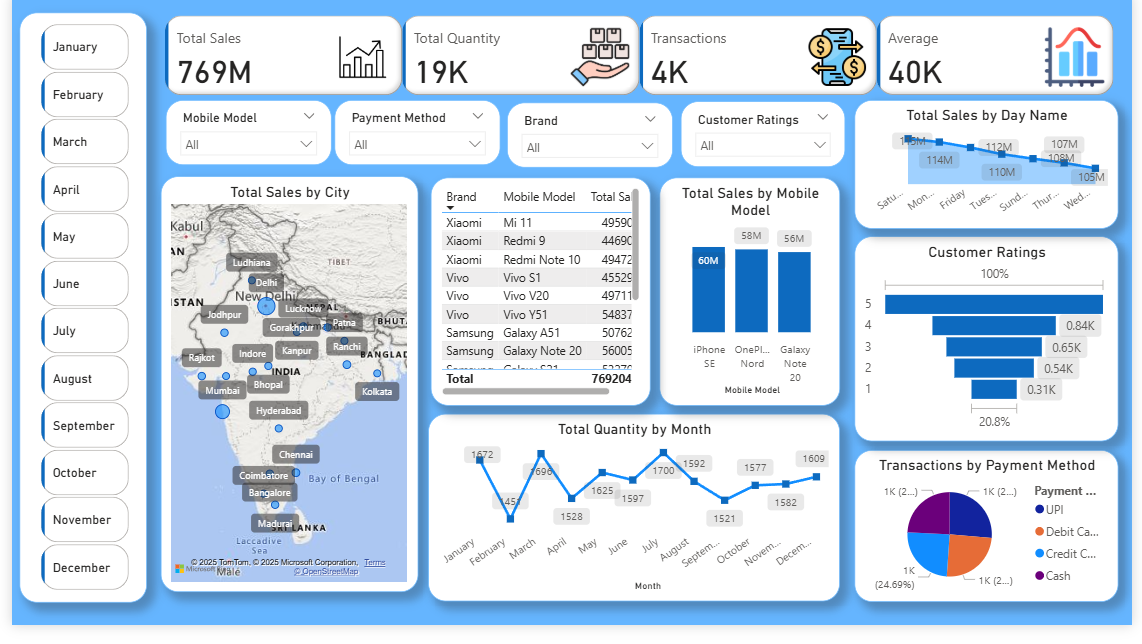

The dashboard page shown, as its layout file describes it:
{"tool":"powerbi","page":{"name":"Page 1","canvas":[1280,720],"ordinal":0},"visuals":[{"type":"shape","box":[8.4,19.3,146,674.4],"z":0},{"type":"advancedSlicerVisual","fields":{"Values":["Sales_Data.Date.Variation.Date Hierarchy.Month"]},"box":[28.8,28.8,110,666.2],"z":1000},{"type":"cardVisual","fields":{"Data":["Sales_Data.Total Sales","Sales_Data.Total Quantity","Sales_Data.Transactions","Sales_Data.Average"]},"box":[170.1,18.1,1094.2,101.3],"z":2000},{"type":"map","fields":{"Category":["Sales_Data.City"],"Size":["Sales_Data.Total Sales"]},"box":[170.1,207.5,294.4,475.3],"z":3000},{"type":"lineChart","fields":{"Category":["Sales_Data.Date.Variation.Date Hierarchy.Month","Sales_Data.Date.Variation.Date Hierarchy.Day"],"Y":["Sales_Data.Total Quantity"]},"box":[475.3,479,470.5,214.7],"z":4000},{"type":"clusteredColumnChart","fields":{"Category":["Sales_Data.Mobile Model"],"Y":["Sales_Data.Total Sales"]},"box":[739.8,208.1,206.7,260.8],"z":5000},{"type":"pieChart","fields":{"Y":["Sales_Data.Transactions"],"Category":["Sales_Data.Payment Method"]},"box":[962.7,520,301.6,173.7],"z":6000},{"type":"funnel","title":"Customer Ratings","fields":{"Category":["Sales_Data.Customer Ratings"],"Y":["CountNonNull(Sales_Data.Customer Ratings)"]},"box":[962.7,276.3,301.6,234],"z":7000},{"type":"areaChart","fields":{"Category":["Sales_Data.Day Name"],"Y":["Sales_Data.Total Sales"]},"box":[962.7,119.4,301.6,147.2],"z":8000},{"type":"tableEx","fields":{"Values":["Sales_Data.Brand","Sales_Data.Mobile Model","Sales_Data.Total Sales"]},"box":[478.9,208.1,250.9,260.8],"z":9000},{"type":"slicer","fields":{"Values":["Sales_Data.Mobile Model"]},"box":[175.3,119.7,189.6,74.1],"z":10000},{"type":"slicer","fields":{"Values":["Sales_Data.Payment Method"]},"box":[369.2,119.7,189.6,74.1],"z":11000},{"type":"slicer","fields":{"Values":["Sales_Data.Customer Ratings"]},"box":[764,121.2,188.2,75.5],"z":12000},{"type":"slicer","fields":{"Values":["Sales_Data.Brand"]},"box":[565.9,122.6,189.6,74.1],"z":13000}]}

Visuals, with their boxes in screenshot pixels (x1, y1, x2, y2), scaled from the page's 1280x720 canvas onto the 1142x644 screenshot:
shape: {"left": 7, "top": 17, "right": 138, "bottom": 620}
advancedSlicerVisual - Sales_Data.Date.Variation.Date Hierarchy.Month: {"left": 26, "top": 26, "right": 124, "bottom": 622}
cardVisual - Sales_Data.Total Sales x Sales_Data.Total Quantity: {"left": 152, "top": 16, "right": 1128, "bottom": 107}
map - Sales_Data.City x Sales_Data.Total Sales: {"left": 152, "top": 186, "right": 414, "bottom": 611}
lineChart - Sales_Data.Date.Variation.Date Hierarchy.Month x Sales_Data.Date.Variation.Date Hierarchy.Day: {"left": 424, "top": 428, "right": 844, "bottom": 620}
clusteredColumnChart - Sales_Data.Mobile Model x Sales_Data.Total Sales: {"left": 660, "top": 186, "right": 844, "bottom": 419}
pieChart - Sales_Data.Transactions x Sales_Data.Payment Method: {"left": 859, "top": 465, "right": 1128, "bottom": 620}
"Customer Ratings" funnel: {"left": 859, "top": 247, "right": 1128, "bottom": 456}
areaChart - Sales_Data.Day Name x Sales_Data.Total Sales: {"left": 859, "top": 107, "right": 1128, "bottom": 238}
tableEx - Sales_Data.Brand x Sales_Data.Mobile Model: {"left": 427, "top": 186, "right": 651, "bottom": 419}
slicer - Sales_Data.Mobile Model: {"left": 156, "top": 107, "right": 326, "bottom": 173}
slicer - Sales_Data.Payment Method: {"left": 329, "top": 107, "right": 499, "bottom": 173}
slicer - Sales_Data.Customer Ratings: {"left": 682, "top": 108, "right": 850, "bottom": 176}
slicer - Sales_Data.Brand: {"left": 505, "top": 110, "right": 674, "bottom": 176}
